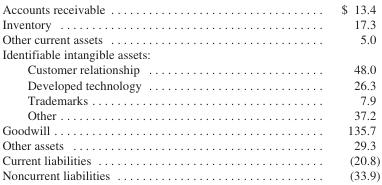table: (1, 1, 379, 182)
table column: (1, 1, 240, 182), (240, 1, 379, 182)
table projected row header: (1, 46, 379, 61)
table row: (1, 106, 379, 122), (1, 1, 379, 16), (1, 16, 379, 31), (1, 31, 379, 46), (1, 46, 379, 61), (1, 61, 379, 76), (1, 76, 379, 91), (1, 91, 379, 106), (1, 122, 379, 137), (1, 137, 379, 152), (1, 152, 379, 167), (1, 167, 379, 182)
